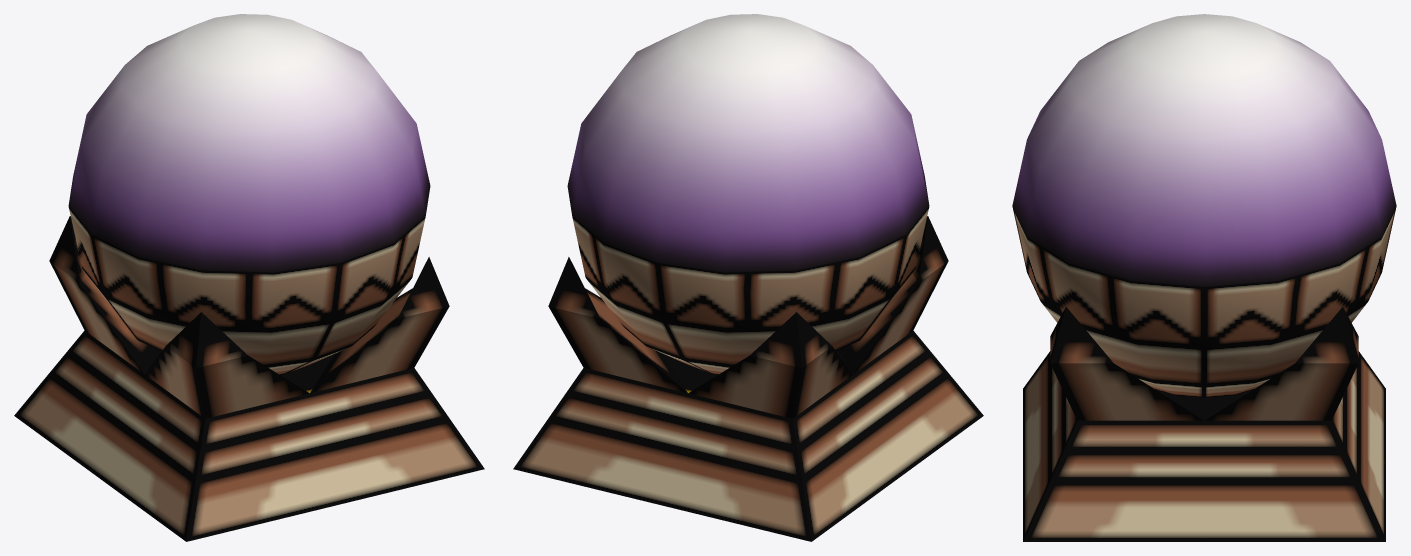
Rendered from deco_lampOrb.FBX.
3 renders of one model, left to right at view 1: azimuth 30°, elevation 25°; view 2: azimuth 150°, elevation 25°; view 3: azimuth 270°, elevation 25°, orthographic. The views are drawn at different scales.
Visible parts, largest first — view 1: deco_lampOrb; view 2: deco_lampOrb; view 3: deco_lampOrb.
Boxes of the visible parts, x1=… form: deco_lampOrb: x1=14, y1=14, x2=484, y2=541; deco_lampOrb: x1=513, y1=14, x2=983, y2=541; deco_lampOrb: x1=1012, y1=14, x2=1396, y2=541.
Size of the model in its own units: 1.06 by 1.32 by 1.06.
1 material, 1 textured.
